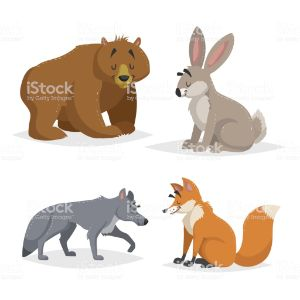bear: (21, 30, 150, 143)
fox: (160, 174, 281, 270)
wolf: (21, 187, 149, 267)
